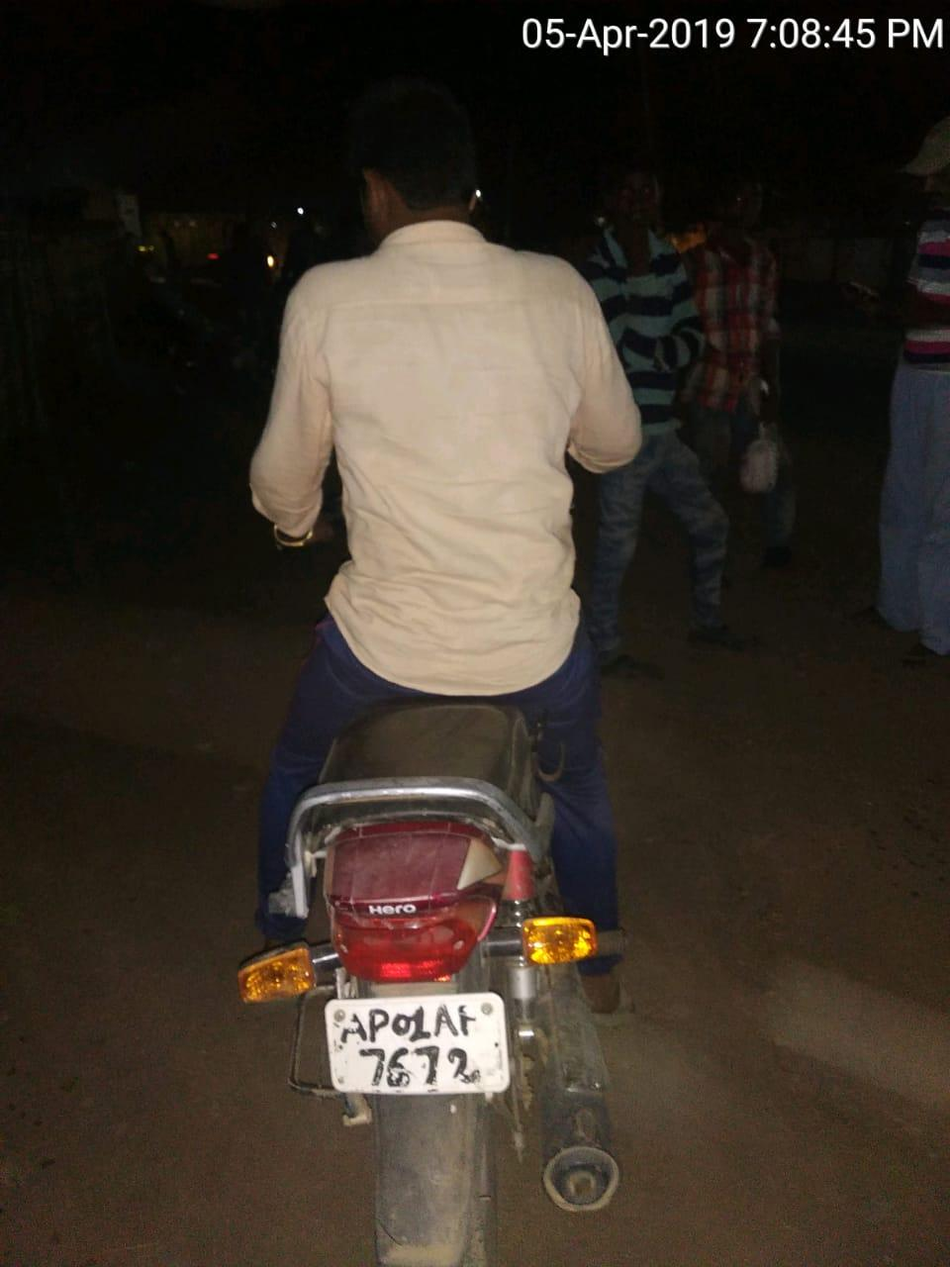plate: (292, 970, 535, 1104)
